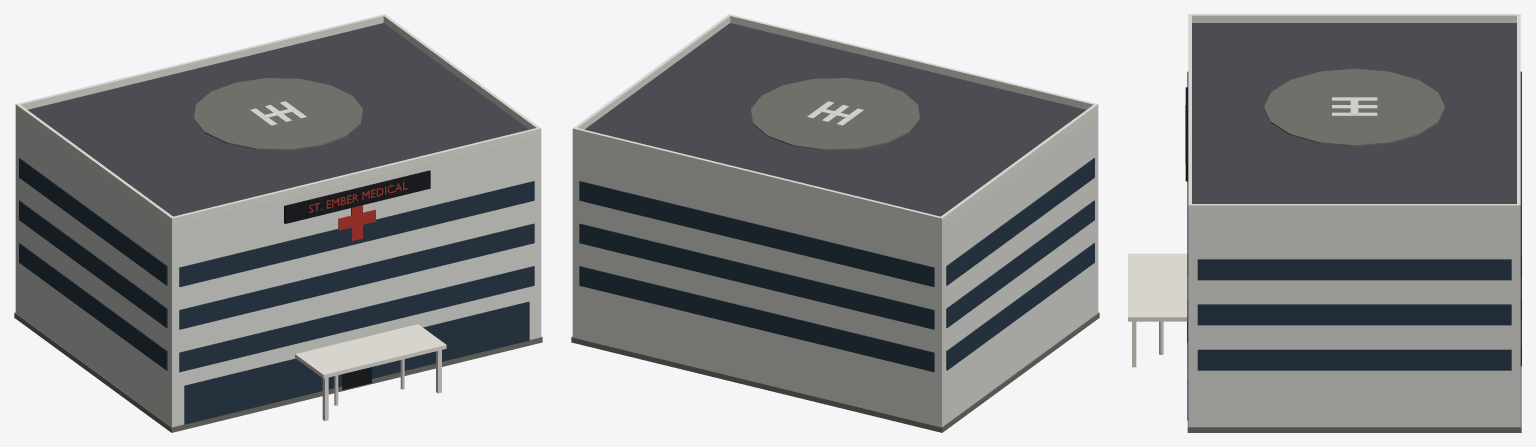
File: hospital.glb
The picture shows the model from 3 angles, left to right: view 1: azimuth 30°, elevation 25°; view 2: azimuth 150°, elevation 25°; view 3: azimuth 270°, elevation 25°; orthographic projection. The views are drawn at different scales.
Visible parts, largest first — view 1: hospital_Body, hospital_SignBoard; view 2: hospital_Body; view 3: hospital_Body, hospital_SignBoard.
Part boxes in pixels (bbox=[...]): hospital_Body: bbox=[14, 14, 542, 432]; hospital_SignBoard: bbox=[284, 170, 430, 223]; hospital_Body: bbox=[571, 14, 1099, 432]; hospital_Body: bbox=[1128, 14, 1521, 432]; hospital_SignBoard: bbox=[1185, 87, 1188, 181].
Size of the model in its own units: 30.16 by 16.84 by 26.08.
